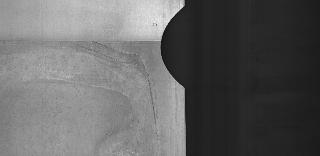welding line: (1, 38, 178, 46)
